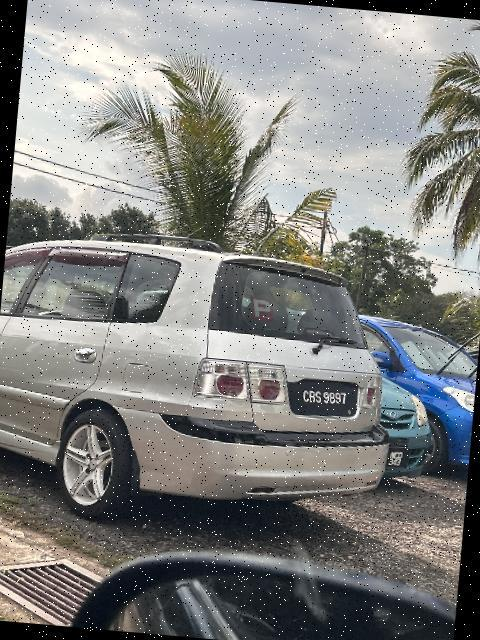CBS9897: (293, 381, 357, 416)
License_Plate: (293, 381, 357, 416), (385, 444, 413, 472)
car: (1, 228, 412, 544)
